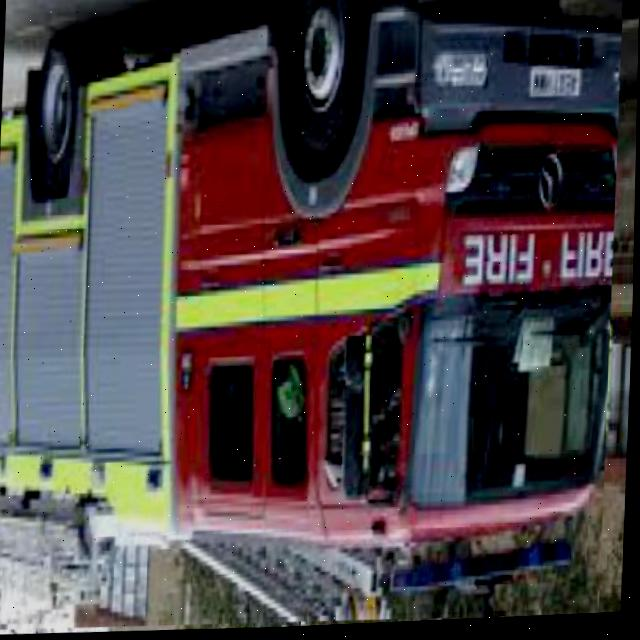Fire Truck: (0, 0, 623, 639)
